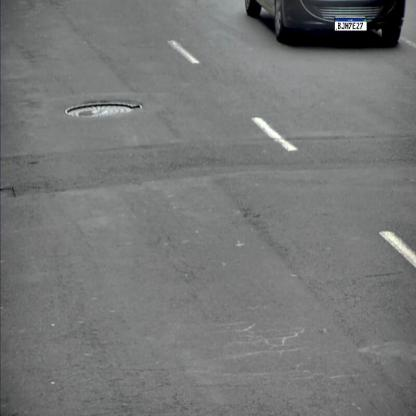PlacaM: (334, 18, 367, 31)
